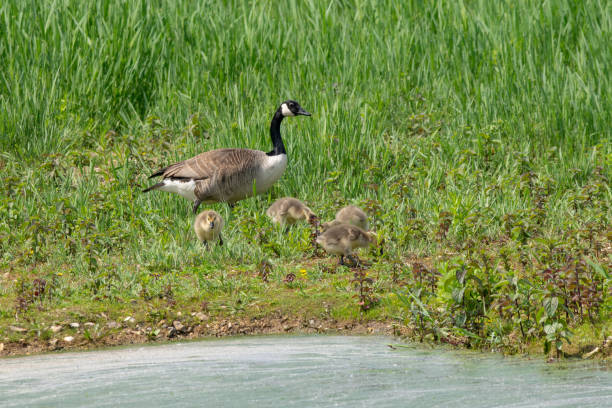goose: (136, 99, 313, 217)
